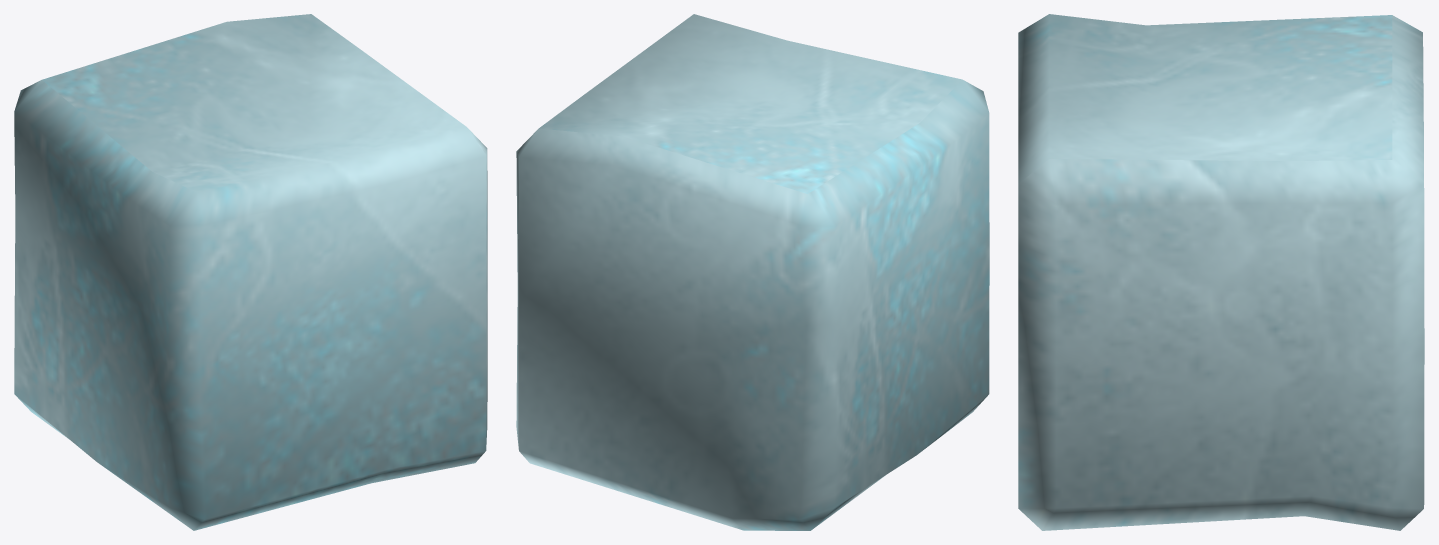
The model's file is bin_1.FBX.
3 renders of one model, left to right at view 1: azimuth 30°, elevation 25°; view 2: azimuth 150°, elevation 25°; view 3: azimuth 270°, elevation 25°, orthographic. The views are drawn at different scales.
Visible parts, largest first — view 1: Box001; view 2: Box001; view 3: Box001.
Part boxes in pixels (bbox=[...]): Box001: bbox=[14, 14, 487, 530]; Box001: bbox=[516, 14, 989, 530]; Box001: bbox=[1018, 14, 1424, 530].
Bounding box in the file's own units: 35.97 × 38.67 × 35.73.
